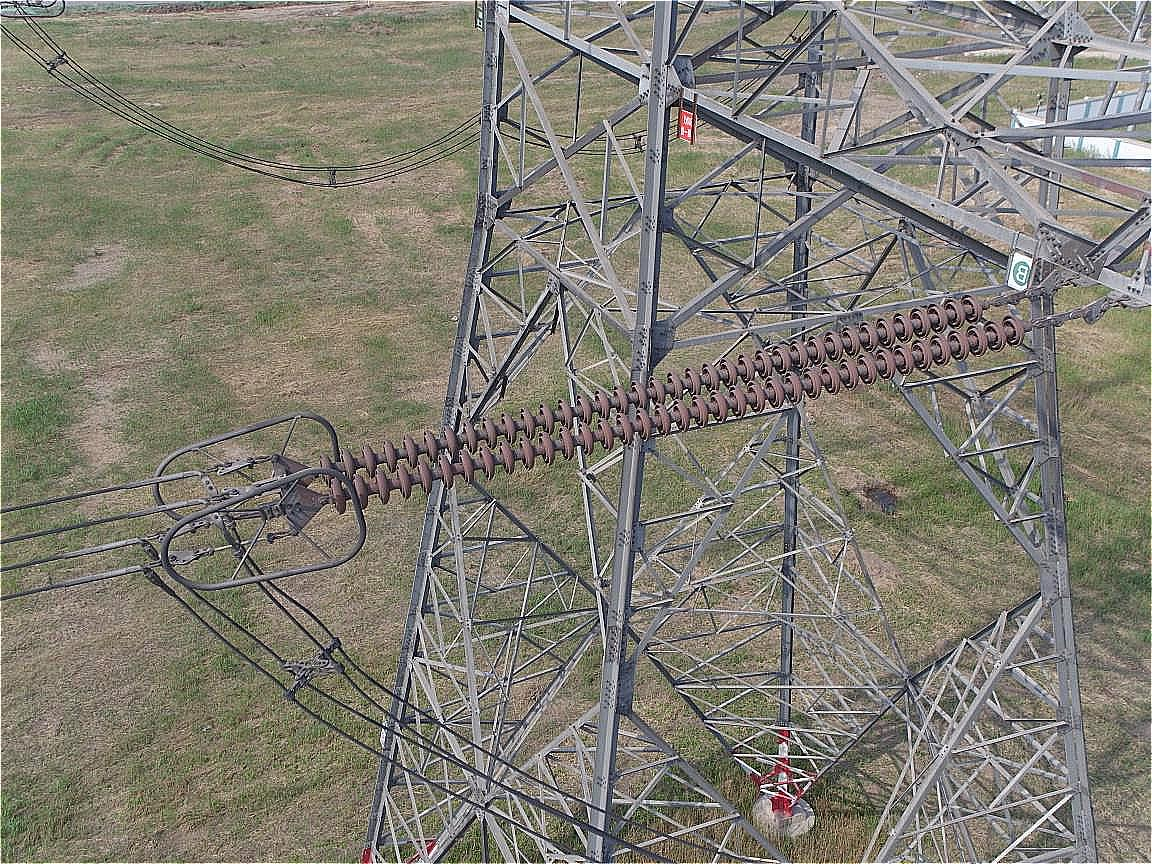insultor1: (310, 292, 1041, 499)
